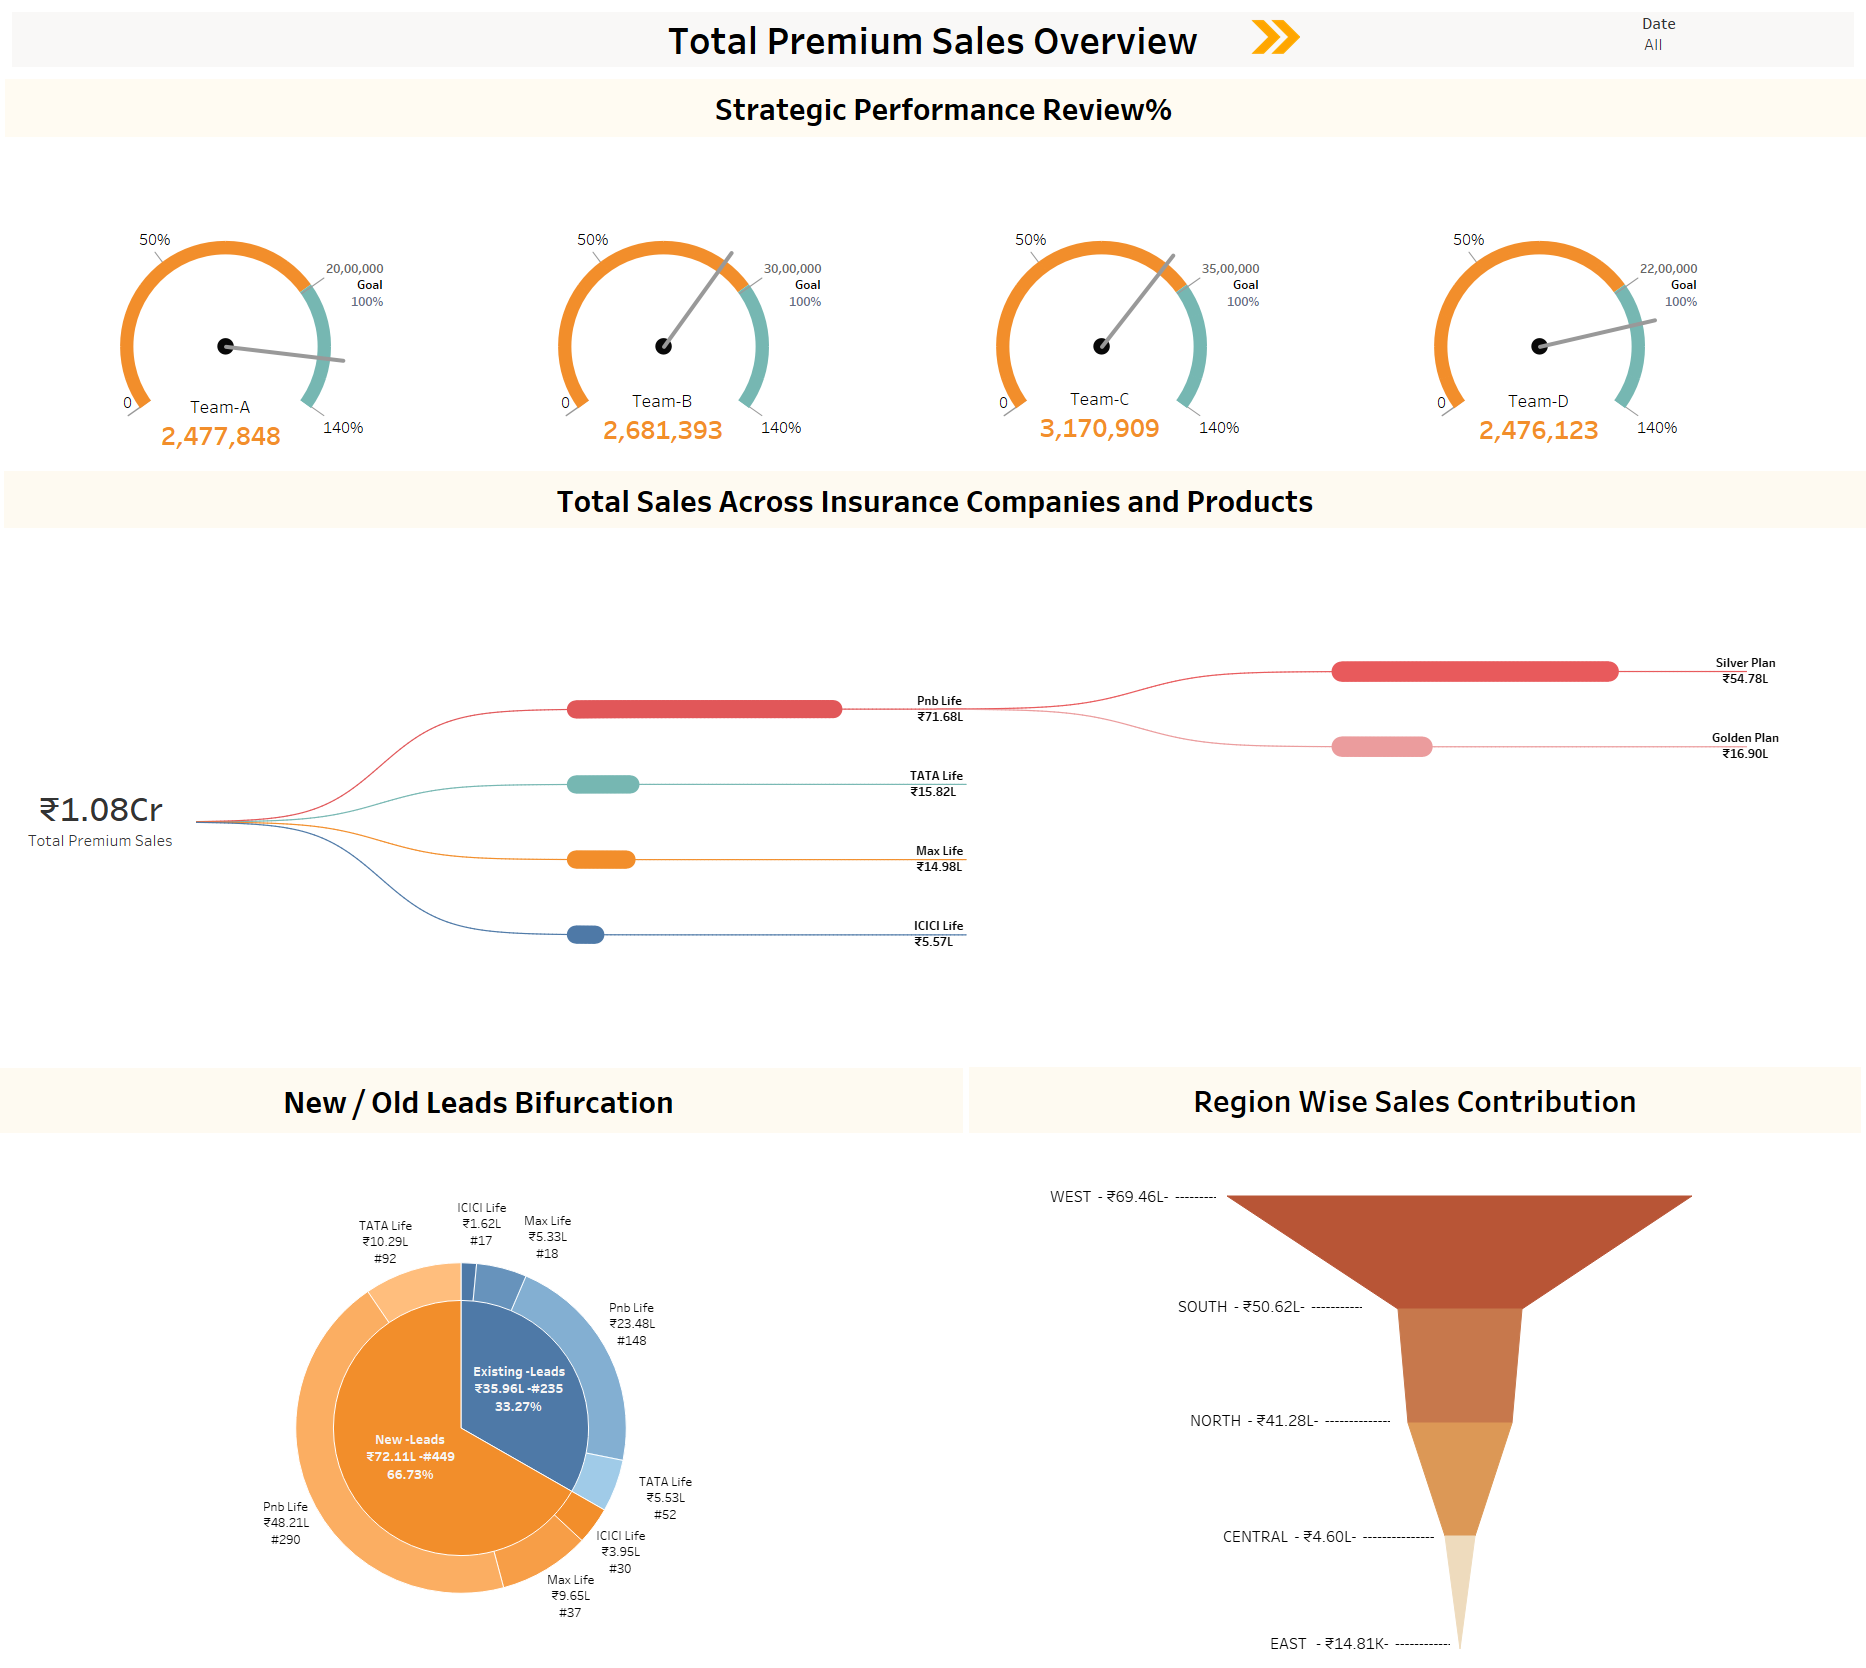

The dashboard page shown, as its layout file describes it:
{"tool":"tableau","page":{"name":"Over View","canvas":[1866,1668],"ordinal":2},"visuals":[{"type":"title","box":[8,8,1850,63]},{"type":"dashboard-object","box":[1194,12.3,164,49.1]},{"type":"filter","title":"Team A - Duplicate","param":"[federated.05op6m911i0bvi100g09i07n142y].[none:Date:ok]","box":[1642,12.3,214,49.1]},{"type":"worksheet","title":"Team A - Duplicate","mark":"Line","cols":["Earthquake"],"box":[8,71,1850,1589]},{"type":"worksheet","title":"Tree diagram for categaory","mark":"Line","box":[178,354.7,860,933.1]},{"type":"worksheet","title":"Tree","mark":"Line","box":[929,354.7,892,933.1]},{"type":"text","box":[4,470.8,1862,57.5]},{"type":"worksheet","title":"Total","mark":"Automatic","box":[7,706,188,224]},{"type":"text","box":[969,1067,892,66]},{"type":"worksheet","title":"funnel - label","mark":"Area","rows":["Region"],"cols":["Calculation_159596337844207620","Calculation_159596337844207620"],"box":[1050,1151,331,61.3]},{"type":"worksheet","title":"funnel - label (2)","mark":"Area","rows":["Region"],"cols":["Calculation_159596337844207620","Calculation_159596337844207620"],"box":[1178,1217,367,132.1]},{"type":"worksheet","title":"funnel - label (3)","mark":"Area","rows":["Region"],"cols":["Calculation_159596337844207620","Calculation_159596337844207620"],"box":[1190,1340.8,399,129.5]},{"type":"worksheet","title":"funnel - label (4)","mark":"Area","rows":["Region"],"cols":["Calculation_159596337844207620","Calculation_159596337844207620"],"box":[1223,1442.5,421,138.7]}]}

Visuals, with their boxes in screenshot pixels (x1, y1, x2, y2), scaled from the page's 1866x1668 canvas onto the 1866x1668 screenshot:
title: 8:8:1858:71
dashboard-object: 1194:12:1358:61
"Team A - Duplicate" filter: 1642:12:1856:61
"Team A - Duplicate" worksheet (Line marks): 8:71:1858:1660
"Tree diagram for categaory" worksheet (Line marks): 178:355:1038:1288
"Tree" worksheet (Line marks): 929:355:1821:1288
text: 4:471:1865:528
"Total" worksheet: 7:706:195:930
text: 969:1067:1861:1133
"funnel - label" worksheet (Area marks): 1050:1151:1381:1212
"funnel - label (2)" worksheet (Area marks): 1178:1217:1545:1349
"funnel - label (3)" worksheet (Area marks): 1190:1341:1589:1470
"funnel - label (4)" worksheet (Area marks): 1223:1442:1644:1581
